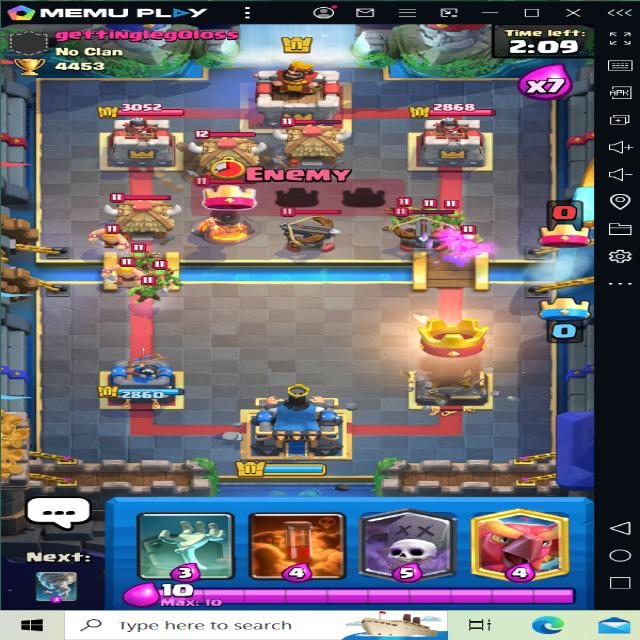barbarian: (96, 252, 154, 285), (85, 218, 142, 248)
goblin-hut: (99, 190, 181, 241), (187, 126, 266, 178), (273, 115, 353, 165)
inferno-tower: (180, 169, 266, 246)
spear-goblin: (430, 195, 466, 230), (452, 217, 488, 251), (125, 271, 164, 298), (150, 262, 183, 290), (122, 244, 155, 266), (396, 194, 420, 223)
x-bow: (386, 197, 466, 252), (269, 200, 348, 251)
